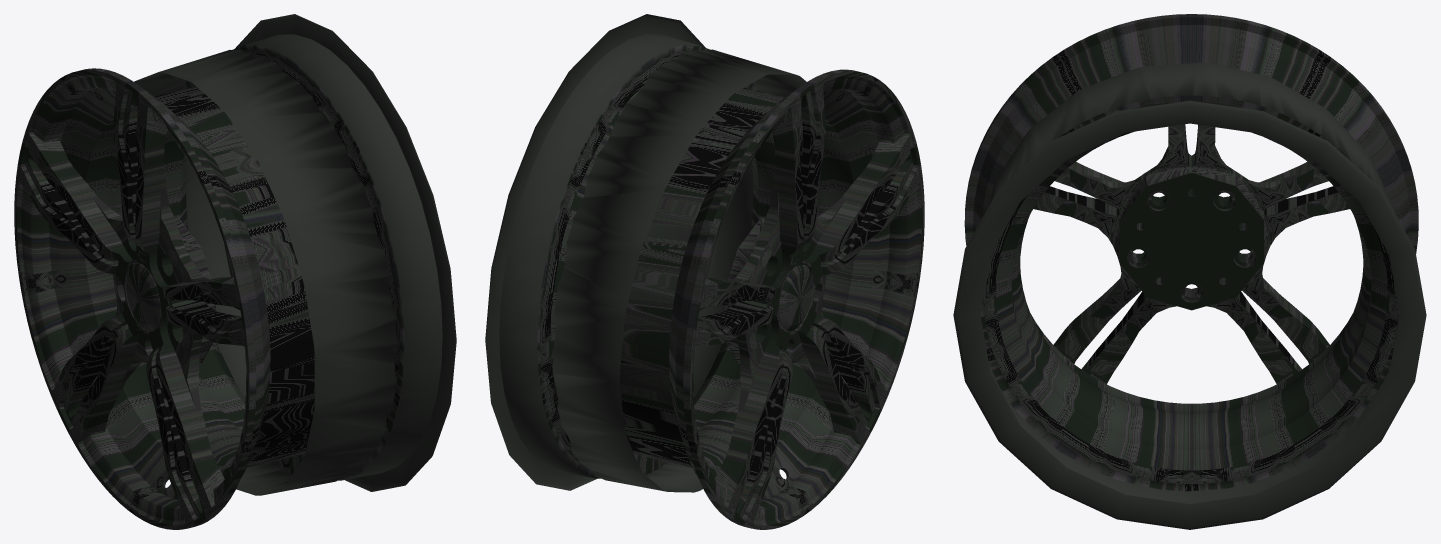
The model's file is rearleft1.glb.
3 views of the same model, side by side, from view 1: azimuth 30°, elevation 25°; view 2: azimuth 150°, elevation 25°; view 3: azimuth 270°, elevation 25° (orthographic). The views are drawn at different scales.
Parts seen in each view (by area): view 1: Rear Left Wheel; view 2: Rear Left Wheel; view 3: Rear Left Wheel.
Boxes of the visible parts, x1,y1,x2,y2 form: Rear Left Wheel: (14,14,456,529); Rear Left Wheel: (485,14,924,529); Rear Left Wheel: (953,14,1426,529).
Size of the model in its own units: 0.2991 by 0.615 by 0.6149.
Materials: 1 (1 with a texture image).
